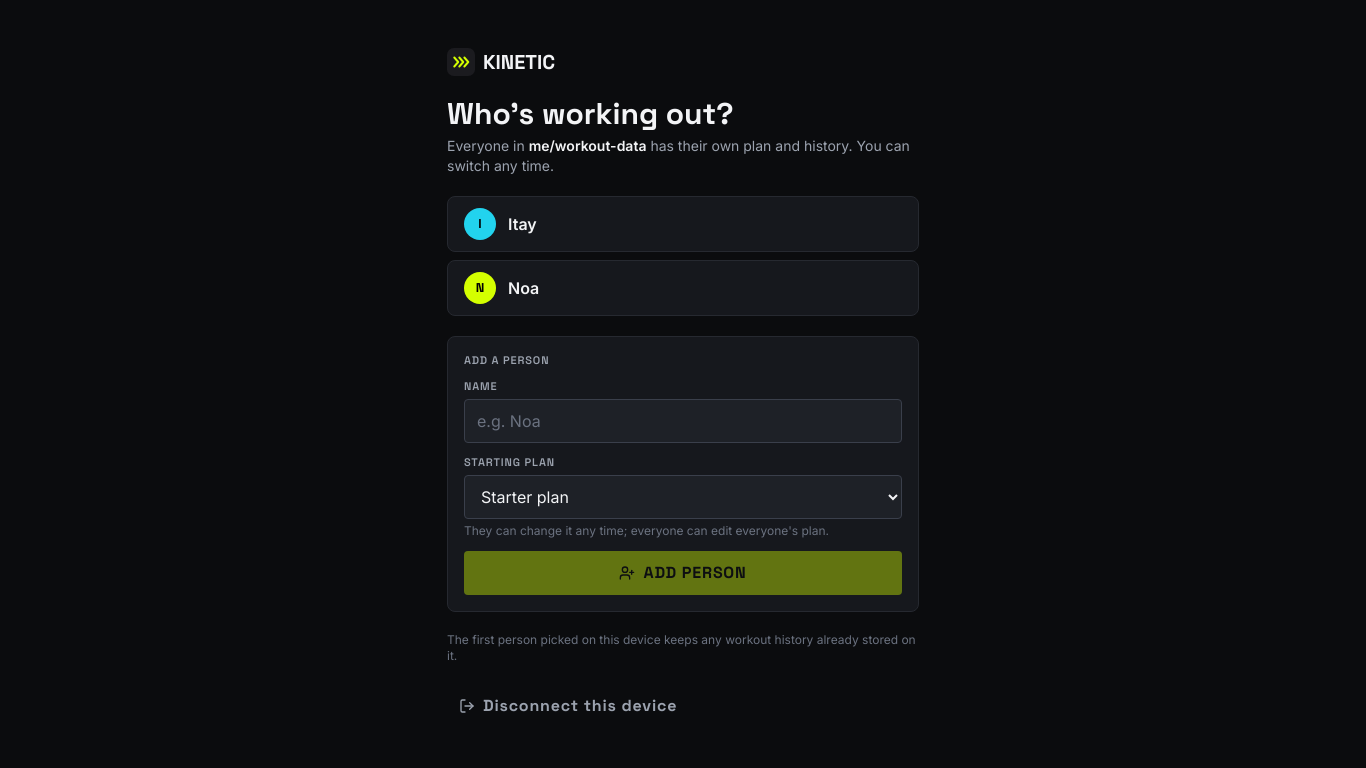
Scenario: multiple people › each person has their own plan and their own workout in progress
Click the button "I Itay".
click(480, 224)  # box left=447, top=196, right=919, bottom=252
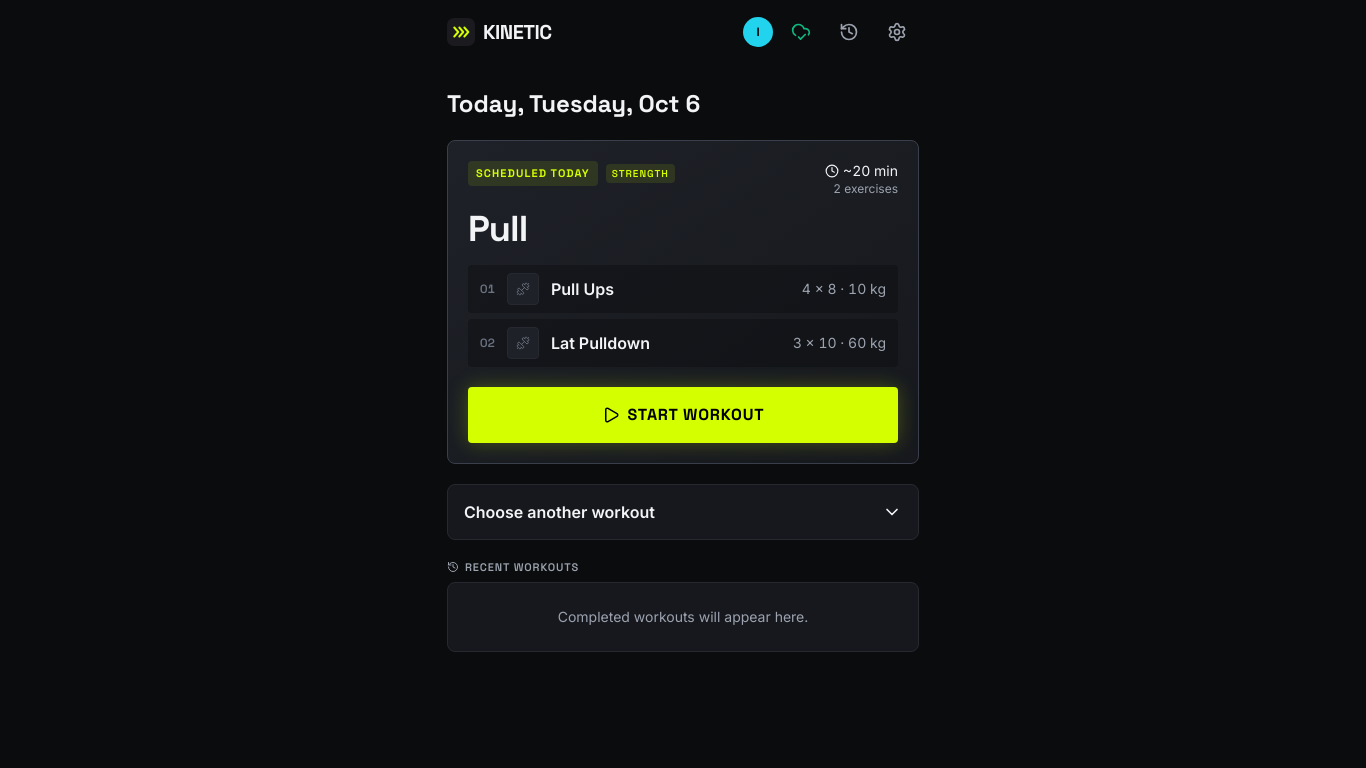
Result: the heading "Pull" is shown at left=468, top=206, right=528, bottom=252
// Switch to Noa: her plan, and no workout in progress.
Click the button named "switch person".
click(758, 32)  # box left=737, top=10, right=779, bottom=54
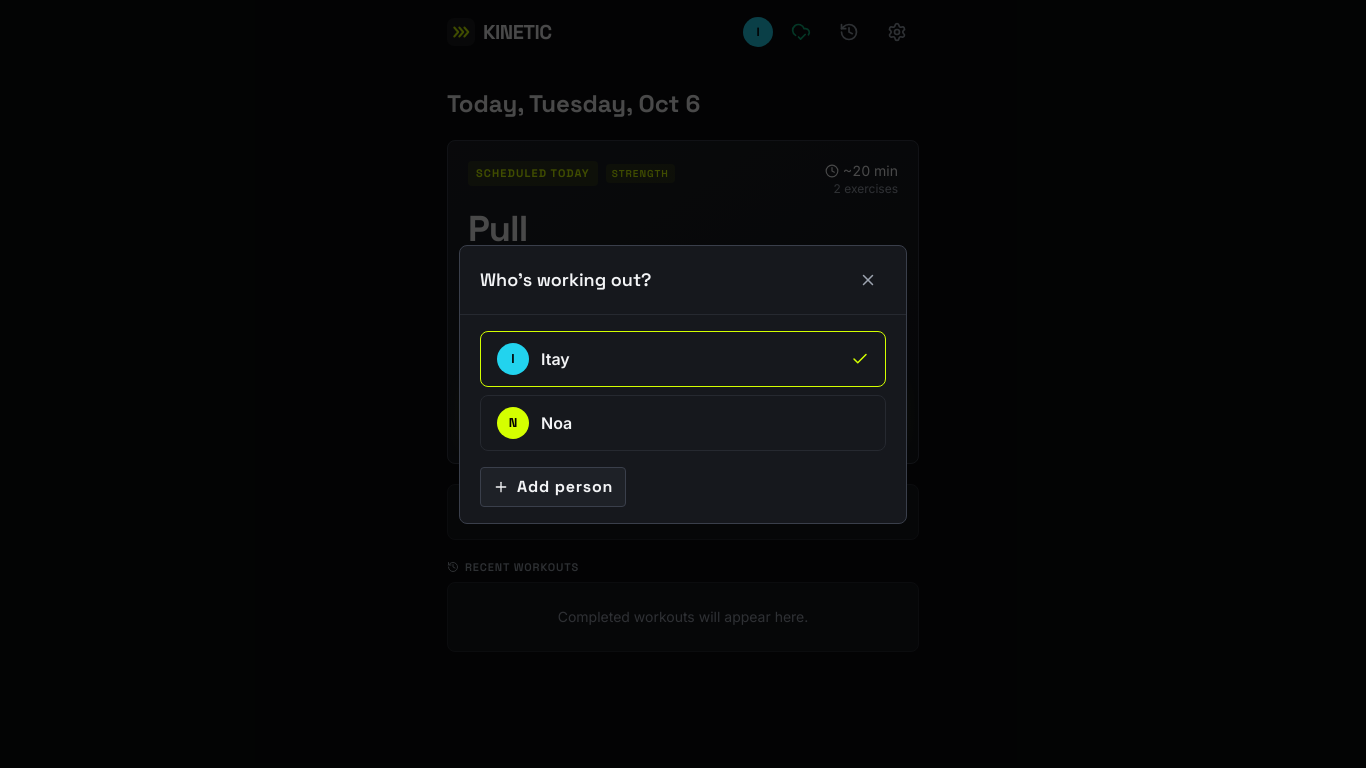
Click the button "N Noa".
click(513, 422)  # box left=480, top=394, right=886, bottom=450
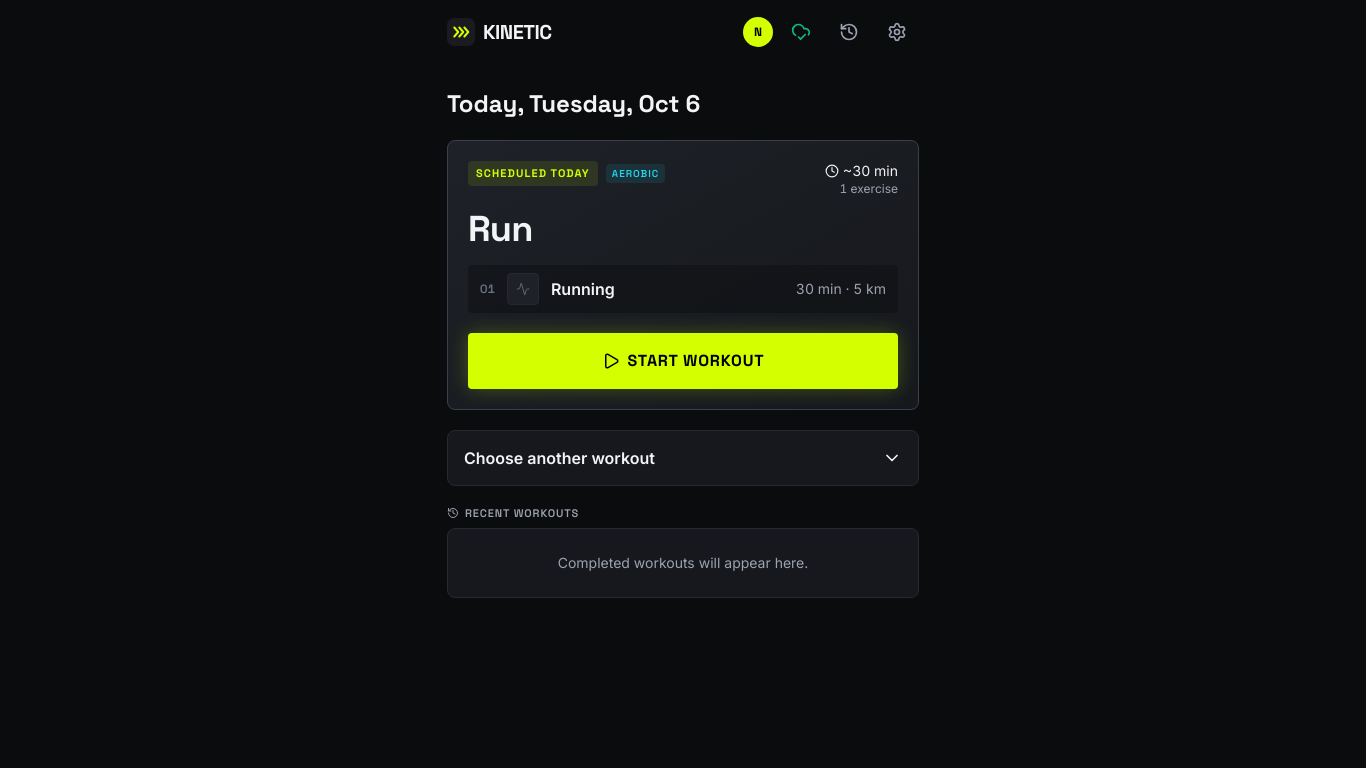
Expected: the text "Workout in progress" is not shown
Result: the heading "Run" is shown at left=468, top=206, right=532, bottom=252
// Back to Itay: his workout is still there.
Click the button named "switch person".
click(758, 32)  # box left=737, top=10, right=779, bottom=54
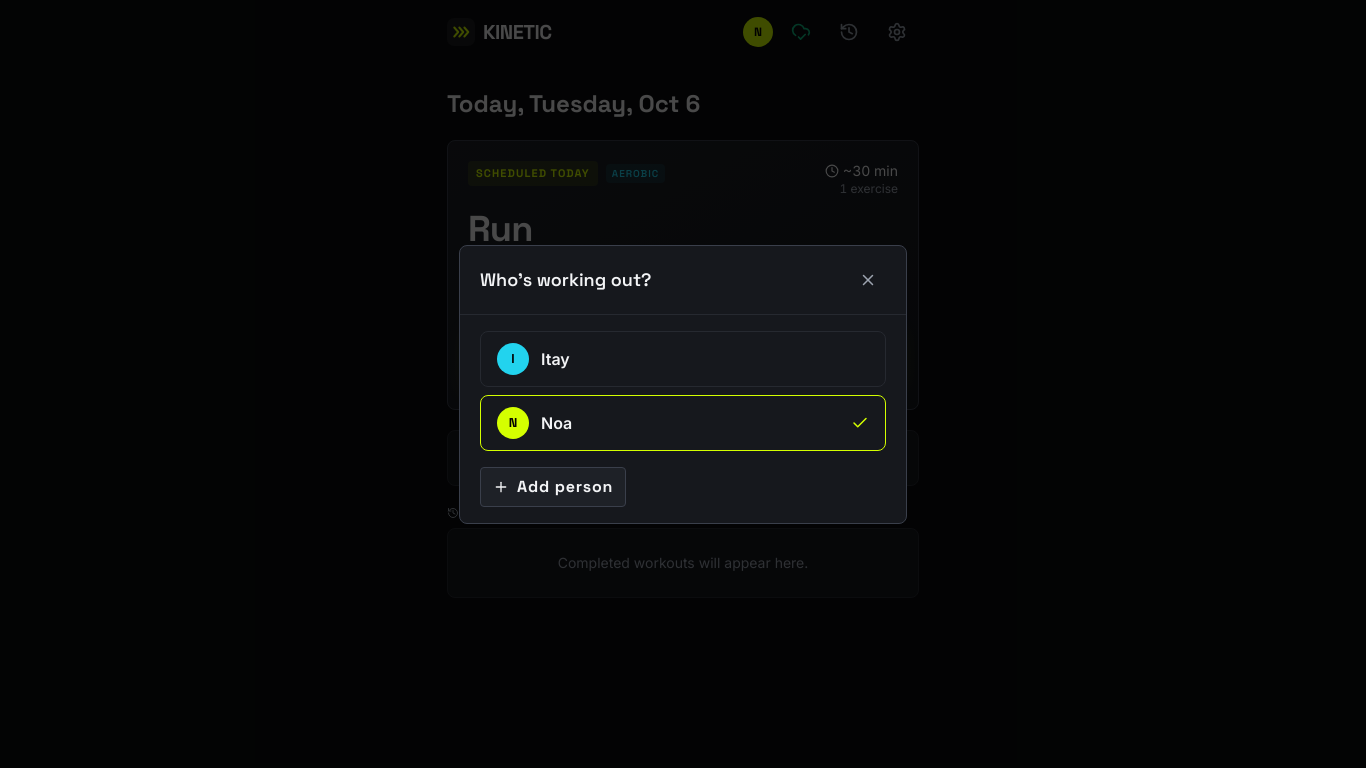
Click the button "I Itay".
click(513, 358)  # box left=480, top=330, right=886, bottom=386
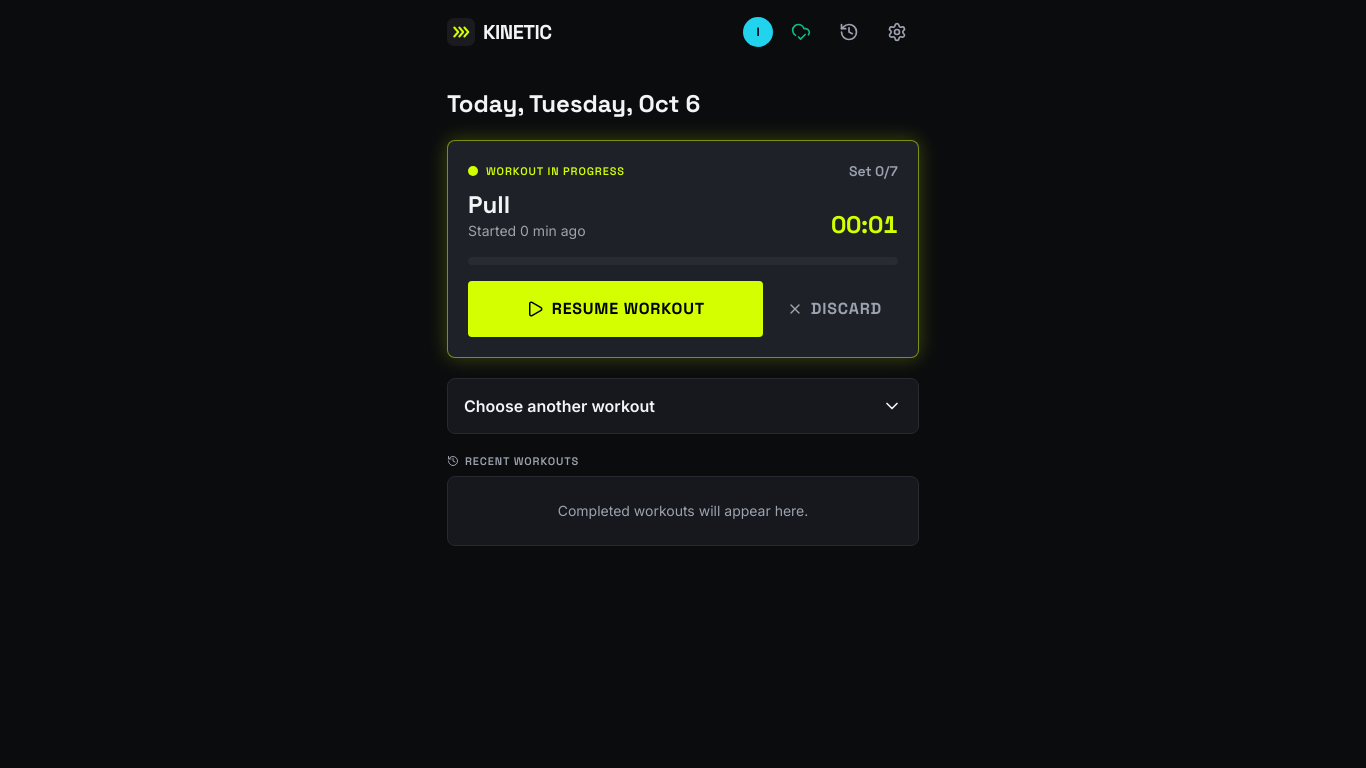
Result: the text "Workout in progress" is shown at left=468, top=164, right=625, bottom=178
Result: the heading "Pull" is shown at left=468, top=189, right=510, bottom=220
Result: the heading "Run" is gone
